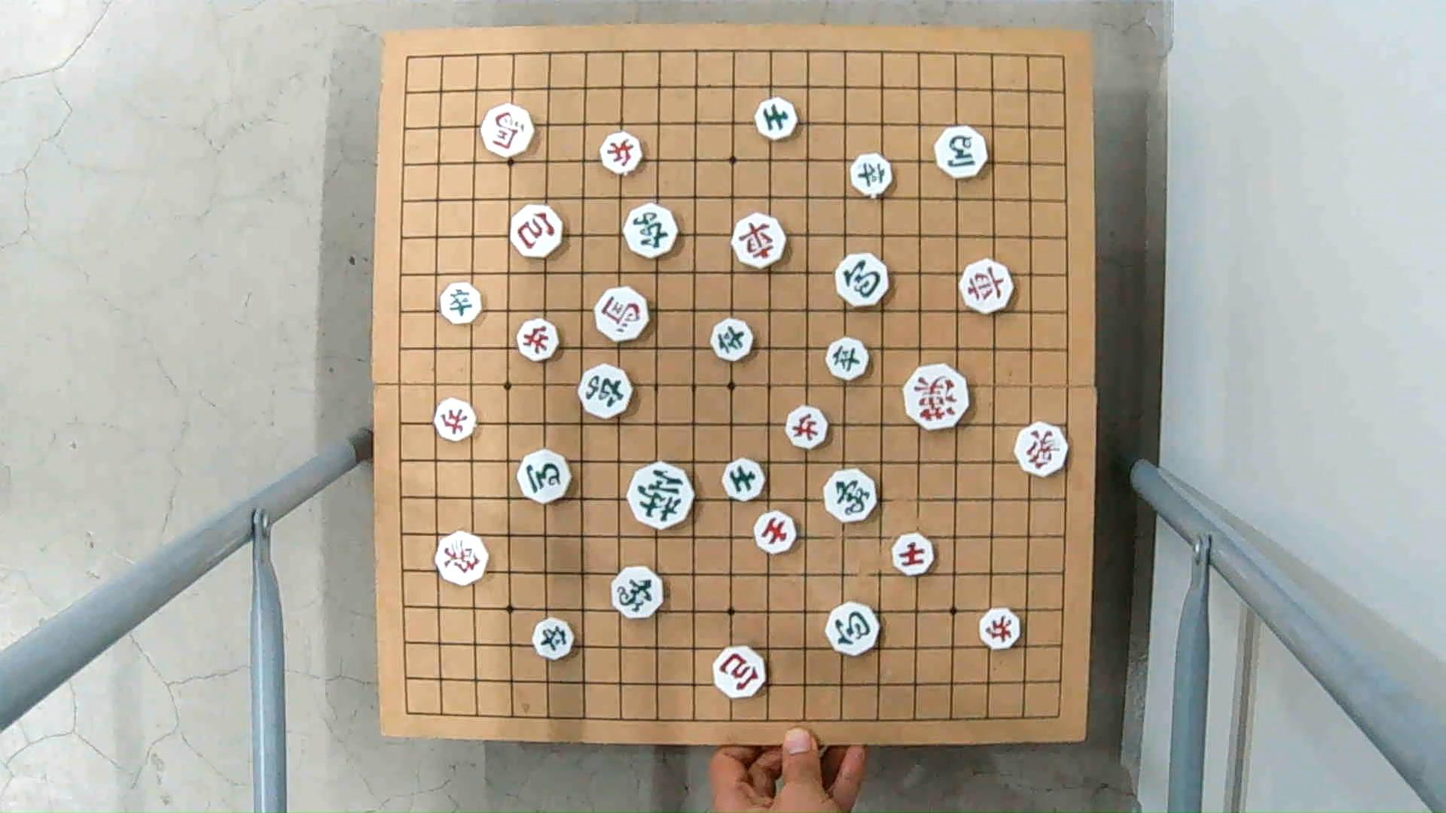cha_green: (624, 206, 676, 262), (578, 366, 633, 416)
cha_red: (960, 260, 1014, 314), (733, 215, 788, 263)
jol_green: (849, 155, 895, 196), (709, 319, 754, 360), (827, 340, 874, 379), (532, 619, 578, 657), (438, 283, 484, 321)
jol_red: (976, 608, 1023, 647), (514, 322, 561, 360), (785, 412, 830, 451), (599, 134, 645, 172), (431, 400, 477, 438)
ma_green: (515, 454, 574, 504), (932, 126, 989, 177)
ma_red: (594, 287, 650, 342), (480, 107, 535, 155)
po_green: (836, 256, 892, 306), (824, 605, 880, 653)
po_red: (508, 207, 565, 257), (710, 647, 768, 696)
sa_green: (753, 99, 800, 139), (721, 461, 767, 501)
sa_red: (890, 533, 934, 574), (755, 513, 797, 553)
sang_green: (822, 471, 880, 521), (612, 568, 665, 618)
sang_red: (1011, 424, 1071, 474), (435, 531, 488, 585)
wang_green: (627, 465, 694, 527)
wang_red: (905, 365, 970, 431)
